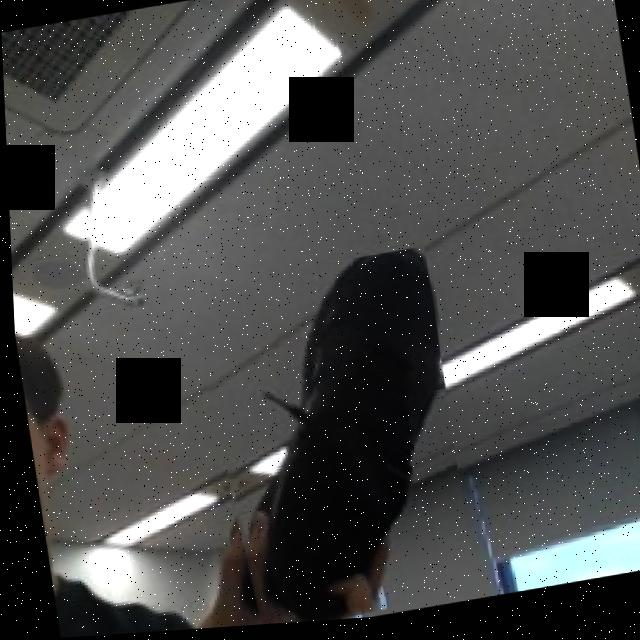shoe: (181, 250, 470, 631)
